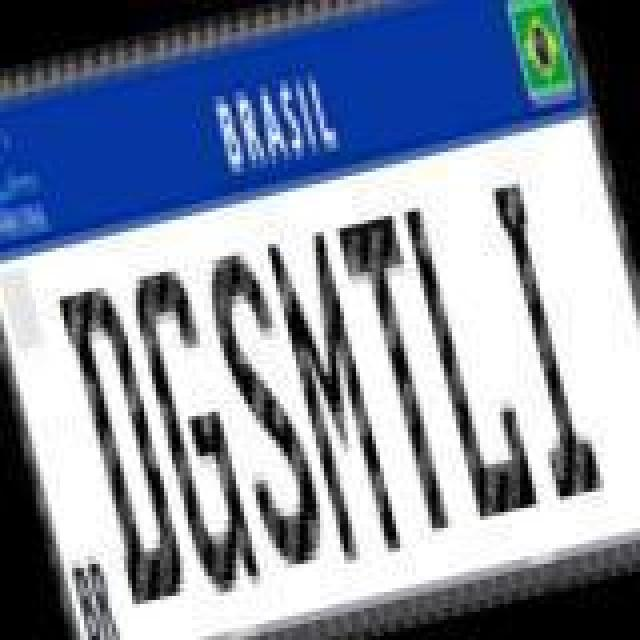D: (56, 280, 192, 616)
G: (120, 260, 264, 604)
I: (480, 174, 608, 506)
L: (400, 192, 544, 528)
M: (264, 228, 408, 572)
S: (192, 240, 336, 576)
T: (336, 208, 472, 544)
